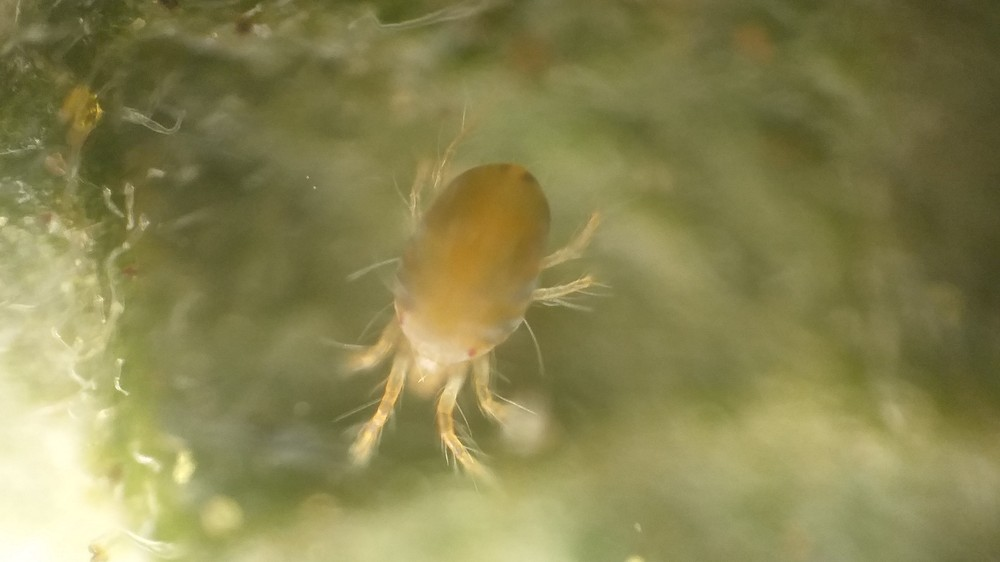Aracnido Rojo: (284, 117, 634, 509)
